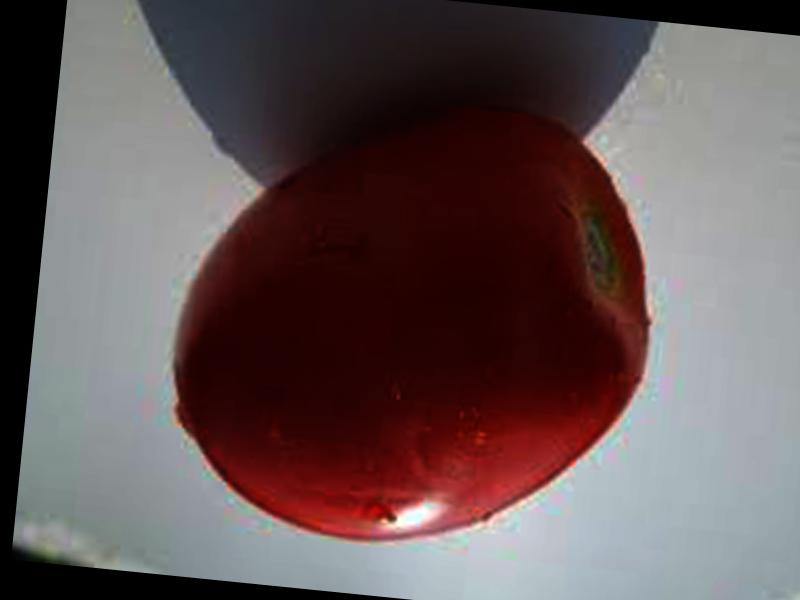Tomato: (160, 81, 668, 567)
